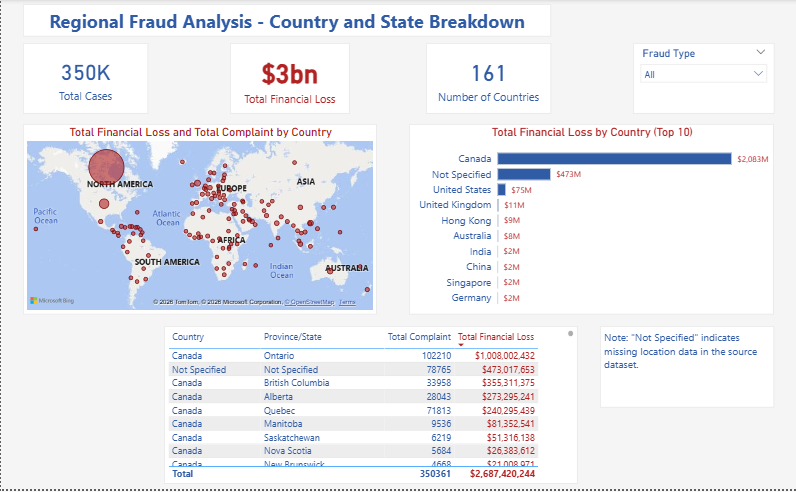

This screenshot's page, from the dashboard's own definition file:
{"tool":"powerbi","page":{"name":"Regional Fraud Analysis","canvas":[1170,720],"ordinal":2},"visuals":[{"type":"textbox","box":[32,8,776,48],"z":0},{"type":"card","fields":{"Values":["Fraud_Complaints.Total Complaint"]},"box":[32,64,184,104],"z":1000},{"type":"card","fields":{"Values":["Fraud_Complaints.Total Financial Loss"]},"box":[336,64,176,104],"z":2000},{"type":"card","fields":{"Values":["Fraud_Complaints.Total Countries"]},"box":[624,64,184,104],"z":3000},{"type":"map","fields":{"Category":["Fraud_Complaints.Country"],"Size":["Fraud_Complaints.Total Financial Loss"]},"box":[32,184,520,280],"z":4000},{"type":"clusteredBarChart","title":"Total Financial Loss by Country (Top 10)","fields":{"Category":["Fraud_Complaints.Country"],"Y":["Fraud_Complaints.Total Financial Loss"]},"box":[600,184,536,280],"z":5000},{"type":"tableEx","fields":{"Values":["Fraud_Complaints.Country","Fraud_Complaints.Province/State","Fraud_Complaints.Total Complaint","Fraud_Complaints.Total Financial Loss"]},"box":[240,480,608,232],"z":6000},{"type":"slicer","fields":{"Values":["Fraud_Complaints.Fraud Type"]},"box":[928,64,208,104],"z":7000},{"type":"textbox","box":[880,480,256,120],"z":8000}]}

Visuals, with their boxes in screenshot pixels (x1, y1, x2, y2), scaled from the page's 1170x720 canvas onto the 796x492 screenshot:
textbox: 22 5 550 38
card - Fraud_Complaints.Total Complaint: 22 44 147 115
card - Fraud_Complaints.Total Financial Loss: 229 44 348 115
card - Fraud_Complaints.Total Countries: 425 44 550 115
map - Fraud_Complaints.Country x Fraud_Complaints.Total Financial Loss: 22 126 376 317
"Total Financial Loss by Country (Top 10)" clusteredBarChart: 408 126 773 317
tableEx - Fraud_Complaints.Country x Fraud_Complaints.Province/State: 163 328 577 487
slicer - Fraud_Complaints.Fraud Type: 631 44 773 115
textbox: 599 328 773 410
